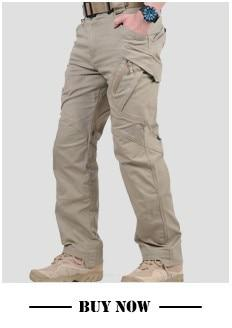pants: (53, 11, 182, 268)
